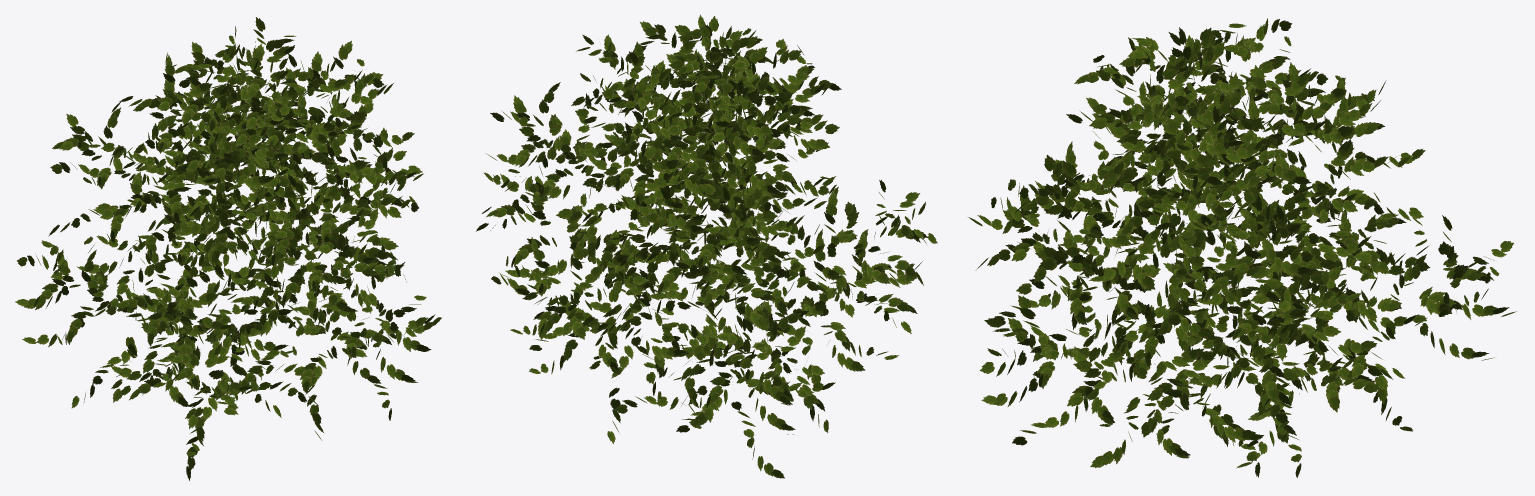
The model's file is Ciervo_arbusto.obj.
The picture shows the model from 3 angles, left to right: view 1: azimuth 30°, elevation 25°; view 2: azimuth 150°, elevation 25°; view 3: azimuth 270°, elevation 25°; orthographic projection. The views are drawn at different scales.
Parts seen in each view (by area): view 1: Foliage001; view 2: Foliage001; view 3: Foliage001.
Part boxes in pixels (<box>): Foliage001: <box>15,17,441,480</box>; Foliage001: <box>476,14,937,478</box>; Foliage001: <box>968,18,1517,477</box>.
Bounding box in the file's own units: 13.02 × 13.13 × 14.38.
